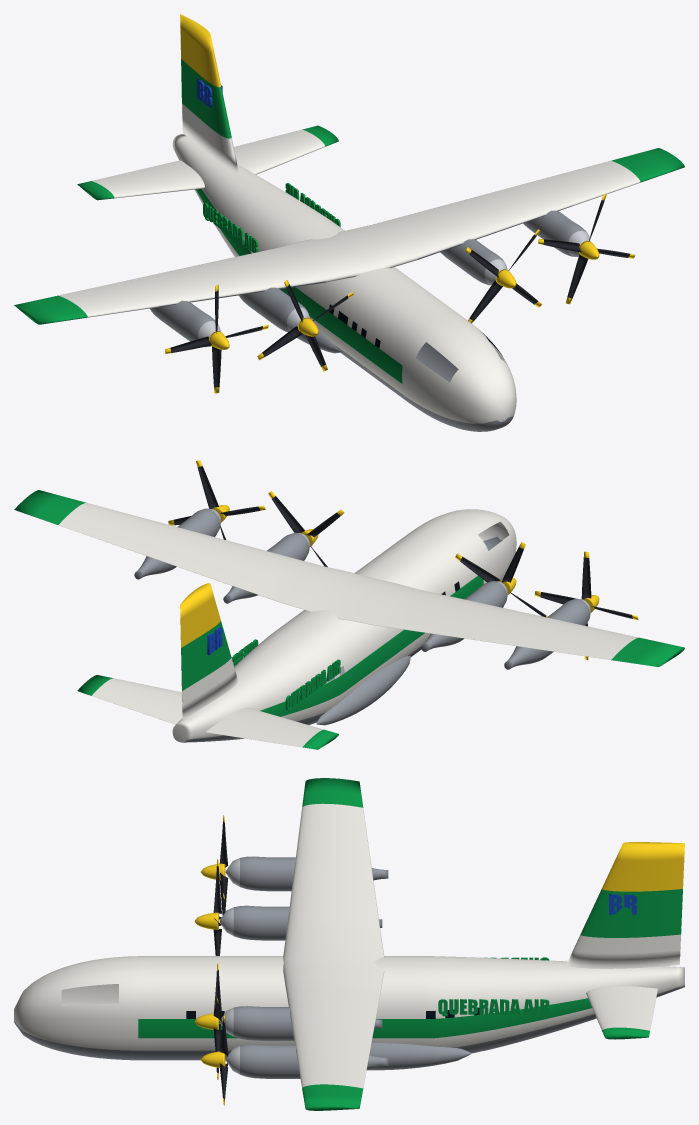
File: airplane.glb
3 views of the same model, one above another, from view 1: azimuth 30°, elevation 25°; view 2: azimuth 150°, elevation 25°; view 3: azimuth 270°, elevation 25° (orthographic). The views are drawn at different scales.
Parts seen in each view (by area): view 1: Aviao, Helice_0, Helice_3, Helice_1, Helice_2; view 2: Aviao, Helice_0, Helice_1, Helice_3, Helice_2; view 3: Aviao.
Part boxes in pixels (left/top/right/bottom): Aviao: left=14, top=14, right=684, bottom=431; Helice_0: left=165, top=284, right=268, bottom=393; Helice_3: left=538, top=194, right=635, bottom=304; Helice_1: left=257, top=280, right=353, bottom=371; Helice_2: left=465, top=229, right=541, bottom=323; Aviao: left=14, top=490, right=684, bottom=749; Helice_0: left=534, top=551, right=638, bottom=660; Helice_1: left=455, top=542, right=547, bottom=617; Helice_3: left=168, top=460, right=265, bottom=539; Helice_2: left=268, top=491, right=344, bottom=566; Aviao: left=14, top=778, right=684, bottom=1110.
Bounding box in the file's own units: 30 × 9 × 25.99.
